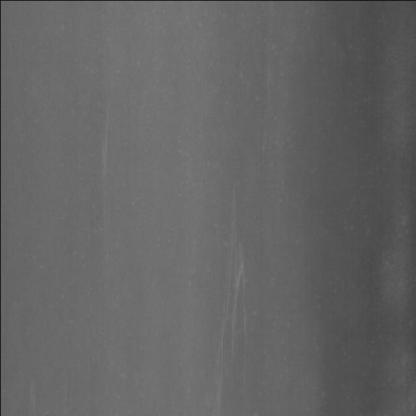silk_spot: (219, 214, 256, 366)
